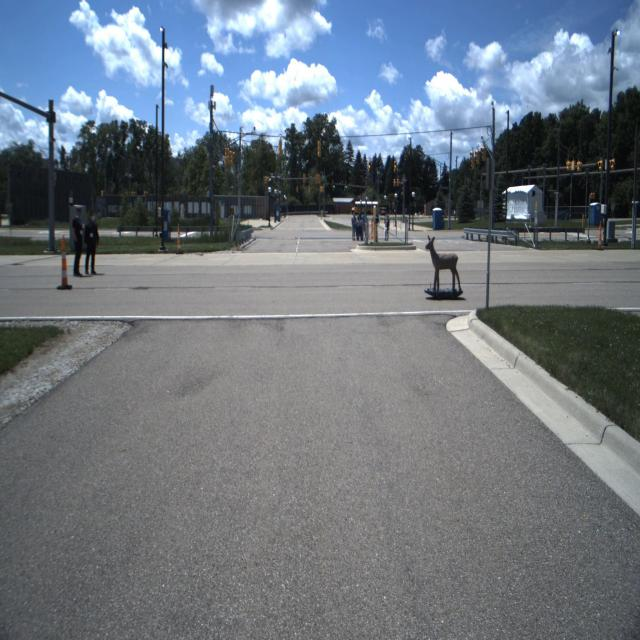Deer: (425, 236, 461, 290)
